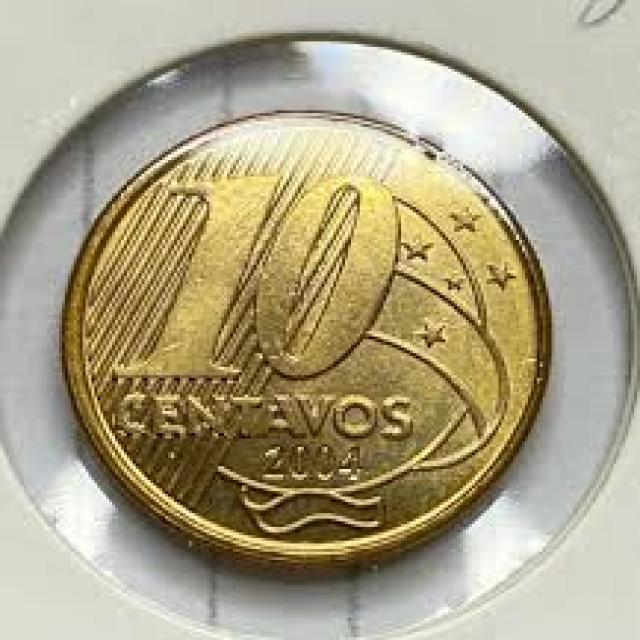10 cent: (67, 112, 539, 561)
